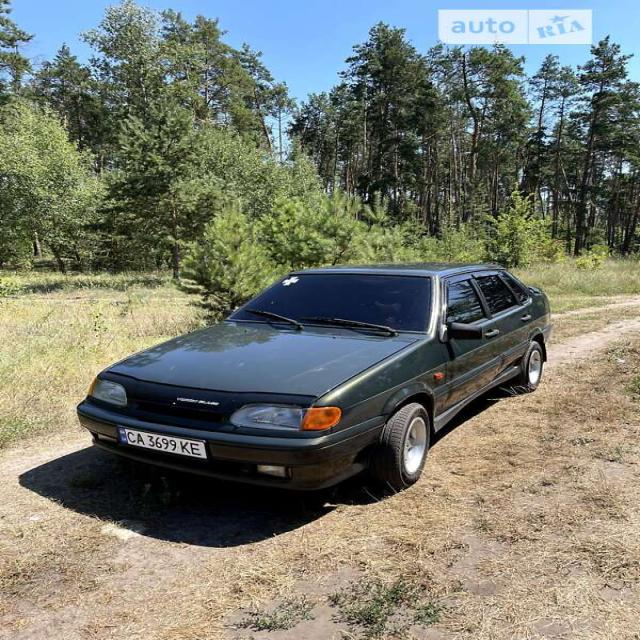plate: (116, 420, 216, 468)
